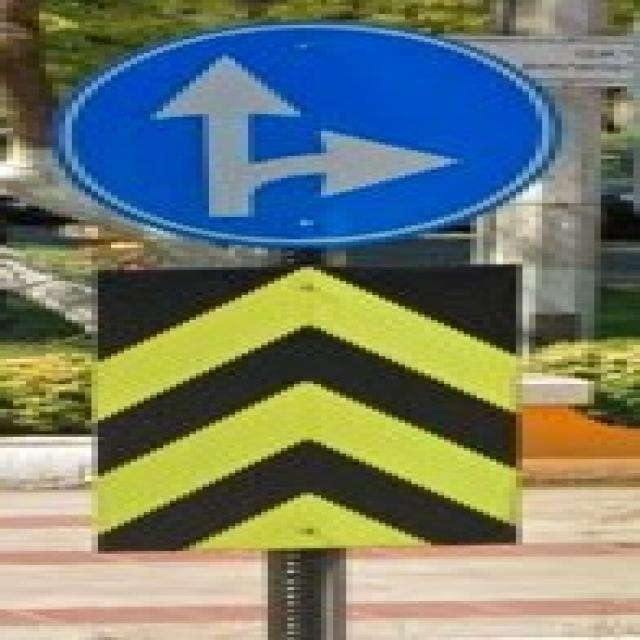Straight or Right: (69, 22, 566, 242)
